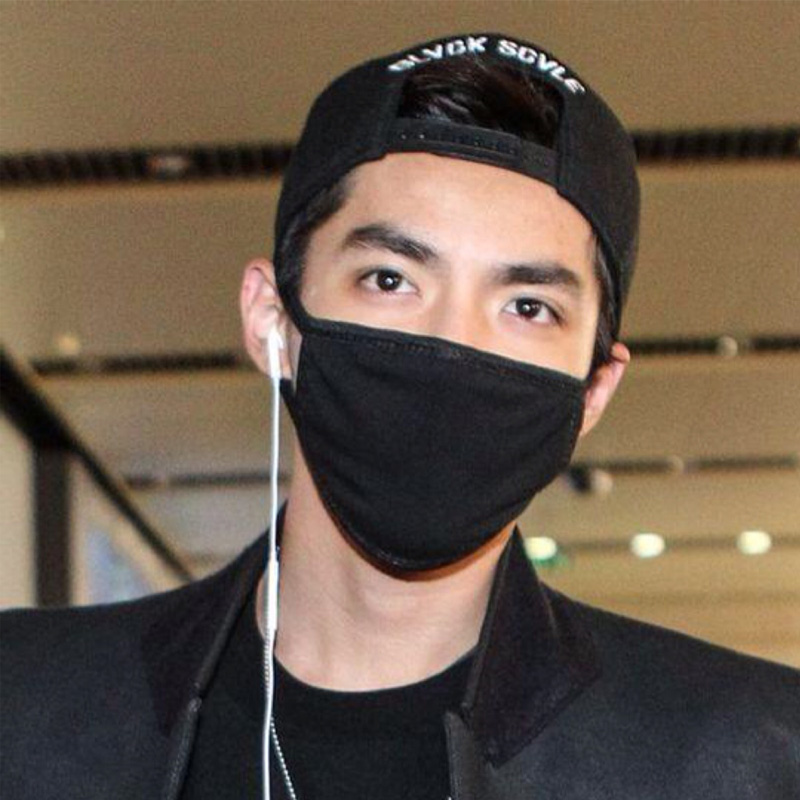face_mask: (292, 144, 598, 541)
